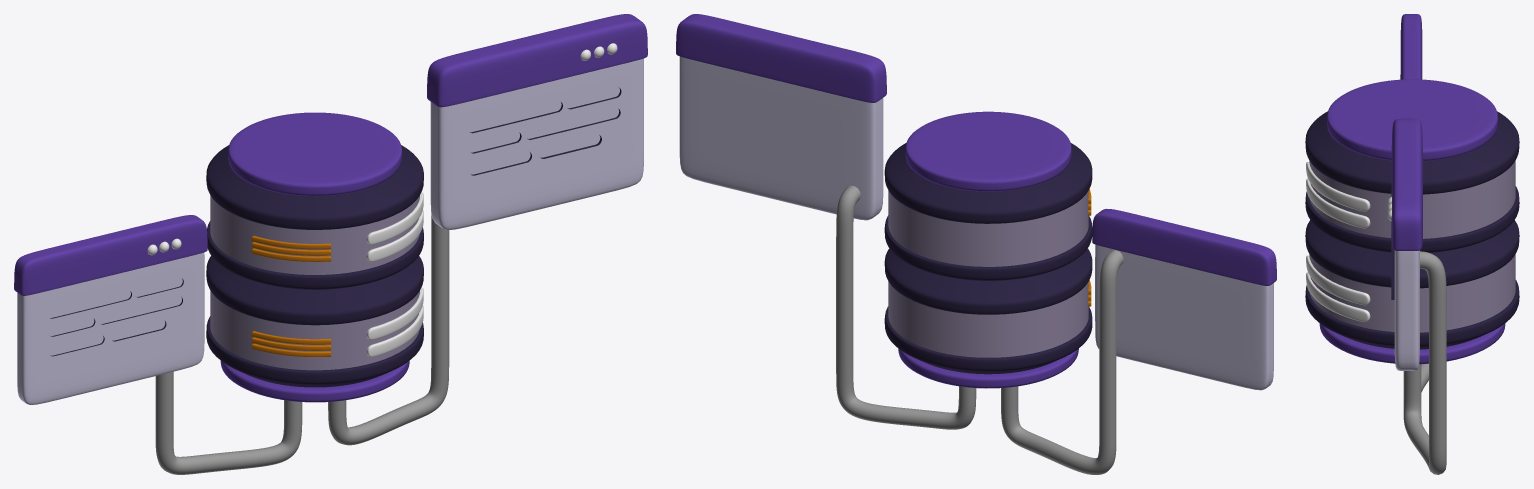
The model's file is _hdx-draco (2).glb.
The picture shows the model from 3 angles, left to right: view 1: azimuth 30°, elevation 25°; view 2: azimuth 150°, elevation 25°; view 3: azimuth 270°, elevation 25°; orthographic projection. The views are drawn at different scales.
Parts seen in each view (by area): view 1: Cube.003, Cylinder.014, Cube.005, Cube.006, Cylinder.018, Cylinder.011, NurbsPath.005, Cylinder.016, Cylinder.012, Cylinder.017, Cylinder.013, Circle.002; view 2: Cube.003, Cylinder.014, Cube.006, Cube.005, Cylinder.011, Cylinder.018, NurbsPath.005; view 3: Cylinder.014, Cylinder.018, Cylinder.011, NurbsPath.005, Cube.006, Cube.003, Cylinder.012, Cylinder.016.
Part boxes in pixels (bbox=[...]): Cube.003: bbox=[430, 58, 643, 229]; Cylinder.014: bbox=[206, 145, 423, 387]; Cube.005: bbox=[17, 252, 204, 404]; Cube.006: bbox=[14, 14, 647, 295]; Cylinder.018: bbox=[220, 112, 409, 402]; Cylinder.011: bbox=[210, 195, 419, 370]; NurbsPath.005: bbox=[155, 214, 449, 474]; Cylinder.016: bbox=[366, 192, 423, 261]; Cylinder.012: bbox=[366, 287, 423, 357]; Cylinder.017: bbox=[251, 235, 331, 261]; Cylinder.013: bbox=[251, 331, 331, 356]; Circle.002: bbox=[470, 87, 621, 175]; Cube.003: bbox=[679, 56, 883, 220]; Cylinder.014: bbox=[884, 143, 1092, 374]; Cube.006: bbox=[676, 14, 1276, 285]; Cube.005: bbox=[1095, 244, 1273, 390]; Cylinder.011: bbox=[888, 190, 1088, 357]; Cylinder.018: bbox=[898, 111, 1078, 388]; NurbsPath.005: bbox=[836, 185, 1123, 474]; Cylinder.014: bbox=[1305, 111, 1519, 349]; Cylinder.018: bbox=[1319, 79, 1505, 364]; Cylinder.011: bbox=[1309, 160, 1515, 332]; NurbsPath.005: bbox=[1403, 251, 1446, 474]; Cube.006: bbox=[1391, 14, 1422, 250]; Cube.003: bbox=[1394, 250, 1419, 370]; Cylinder.012: bbox=[1306, 255, 1370, 322]; Cylinder.016: bbox=[1306, 162, 1370, 228].
Size of the model in its own units: 6.91 by 3.86 by 2.09.
